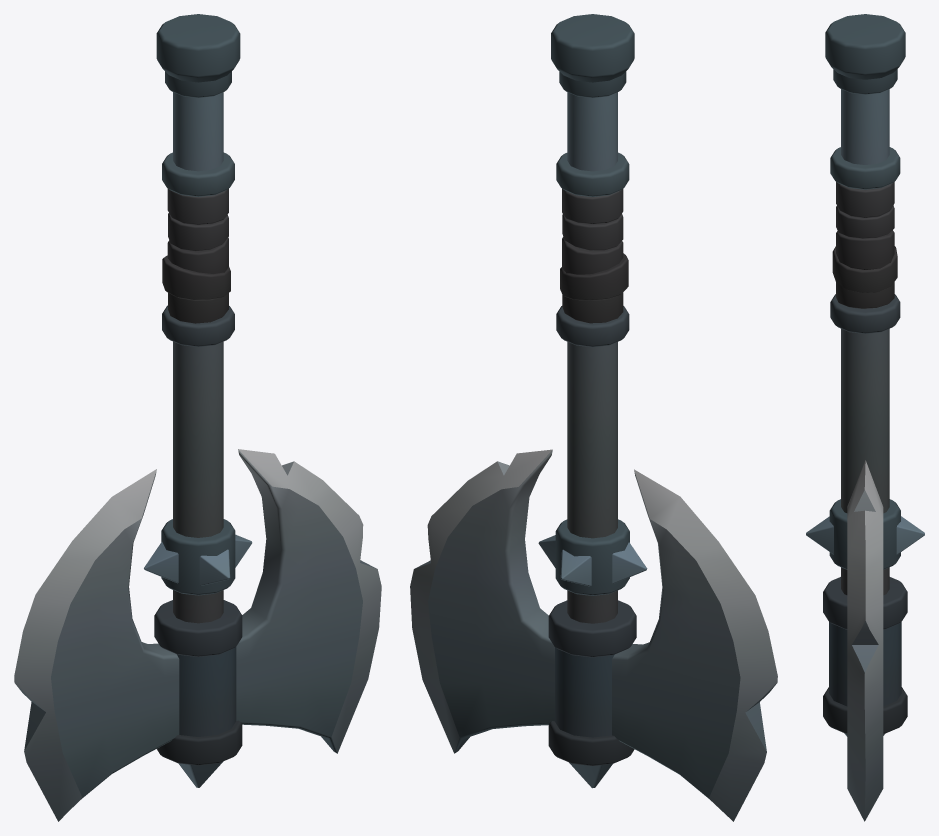
File: inferno-axe-001.glb
The picture shows the model from 3 angles, left to right: view 1: azimuth 30°, elevation 25°; view 2: azimuth 150°, elevation 25°; view 3: azimuth 270°, elevation 25°; orthographic projection. The views are drawn at different scales.
Parts seen in each view (by area): view 1: Axe_001; view 2: Axe_001; view 3: Axe_001.
Boxes of the visible parts, x1,y1,x2,y2 form: Axe_001: (14,14,381,821); Axe_001: (410,14,777,821); Axe_001: (806,14,924,821).
Size of the model in its own units: 10.96 by 21.57 by 3.2.
1 material, 1 textured.
